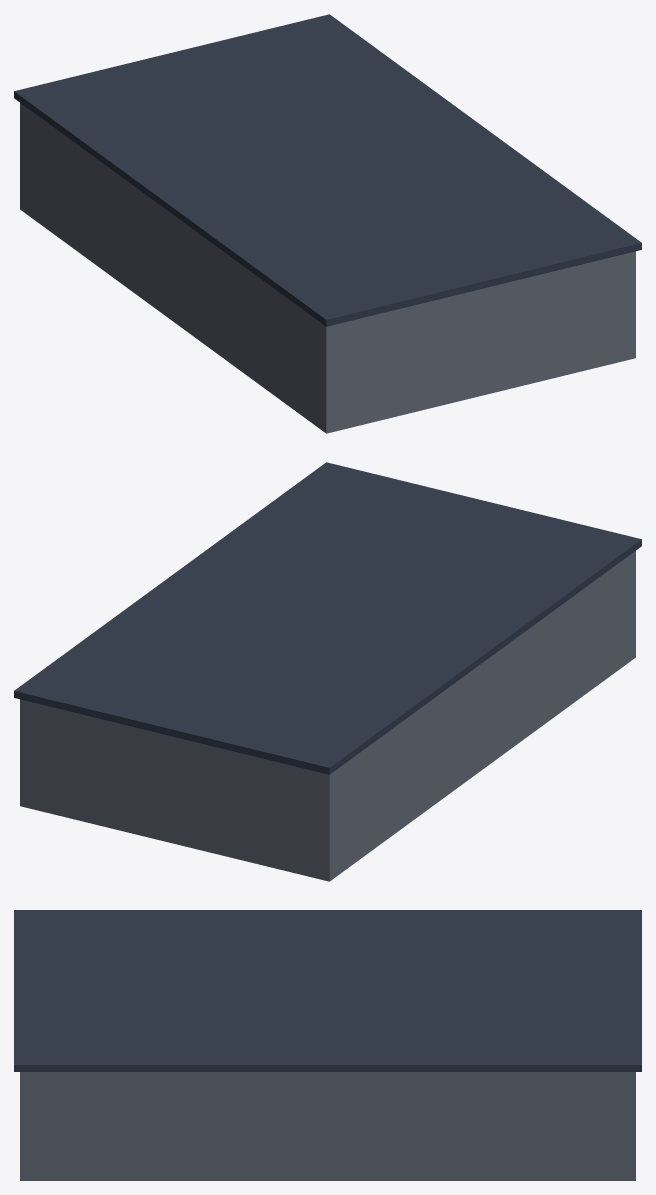
File: southPaddock.glb
3 renders of one model, top to bottom at view 1: azimuth 30°, elevation 25°; view 2: azimuth 150°, elevation 25°; view 3: azimuth 270°, elevation 25°, orthographic.
Visible parts, largest first — view 1: southPaddock; view 2: southPaddock; view 3: southPaddock.
Part boxes in pixels (bbox=[...]): southPaddock: bbox=[14, 14, 641, 433]; southPaddock: bbox=[14, 462, 641, 881]; southPaddock: bbox=[14, 910, 641, 1180].
Size of the model in its own units: 7.14 by 2.53 by 12.24.
